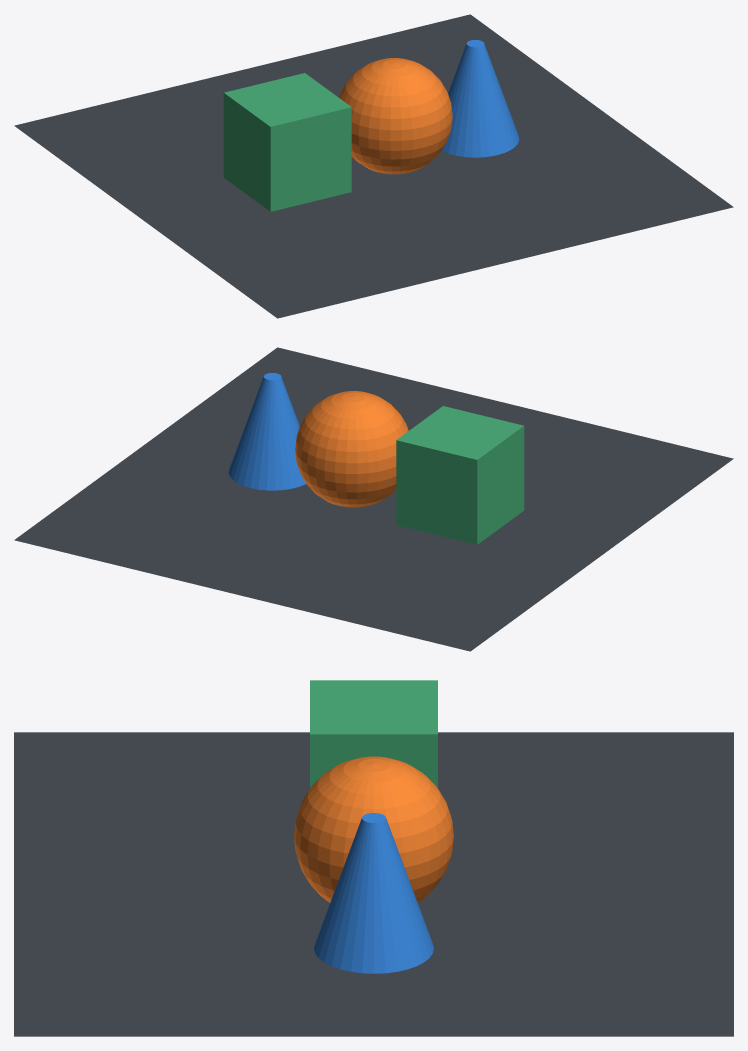
Rendered from viewer-no-camera.glb.
3 views of the same model, one above another, from view 1: azimuth 30°, elevation 25°; view 2: azimuth 150°, elevation 25°; view 3: azimuth 270°, elevation 25° (orthographic). The views are drawn at different scales.
Parts seen in each view (by area): view 1: 展示底板, 产品主体, 可替换部件, 方向标记; view 2: 展示底板, 产品主体, 可替换部件, 方向标记; view 3: 展示底板, 可替换部件, 方向标记, 产品主体.
Boxes of the visible parts, left/top/right/bottom form: 展示底板: left=14, top=14, right=733, bottom=318; 产品主体: left=223, top=73, right=351, bottom=211; 可替换部件: left=339, top=58, right=452, bottom=174; 方向标记: left=441, top=40, right=519, bottom=157; 展示底板: left=14, top=347, right=733, bottom=651; 产品主体: left=396, top=406, right=524, bottom=544; 可替换部件: left=295, top=391, right=408, bottom=507; 方向标记: left=228, top=373, right=306, bottom=490; 展示底板: left=14, top=732, right=733, bottom=1036; 可替换部件: left=294, top=756, right=453, bottom=902; 方向标记: left=314, top=813, right=433, bottom=973; 产品主体: left=310, top=680, right=437, bottom=788.
Bounding box in the file's own units: 9 × 2 × 9.
